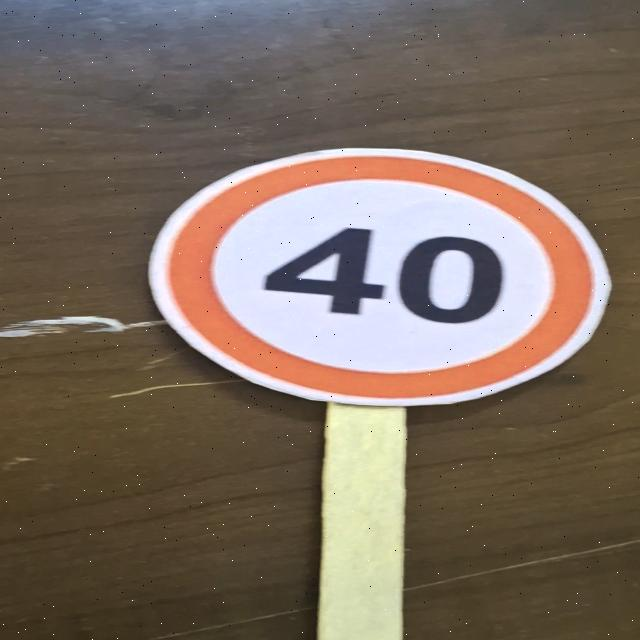Speed40: (147, 144, 613, 408)
